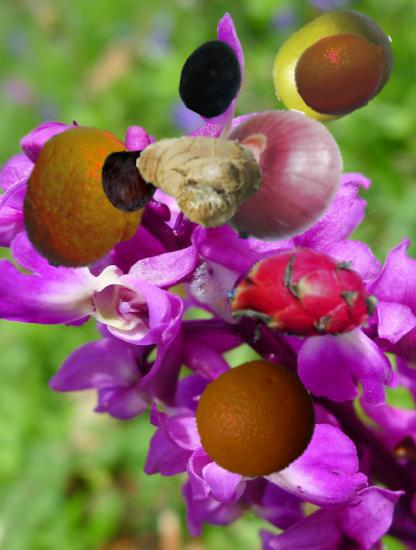Blueberry: (173, 39, 251, 117)
Ginger: (135, 118, 262, 245)
Mandarine: (11, 127, 157, 273)
Onion: (207, 107, 346, 246)
Orange: (196, 359, 317, 480)
Pitahaya: (230, 222, 376, 368)
Plum: (99, 150, 162, 213)
Pomelo: (269, 2, 397, 130)
Tangelo: (294, 25, 390, 121)
